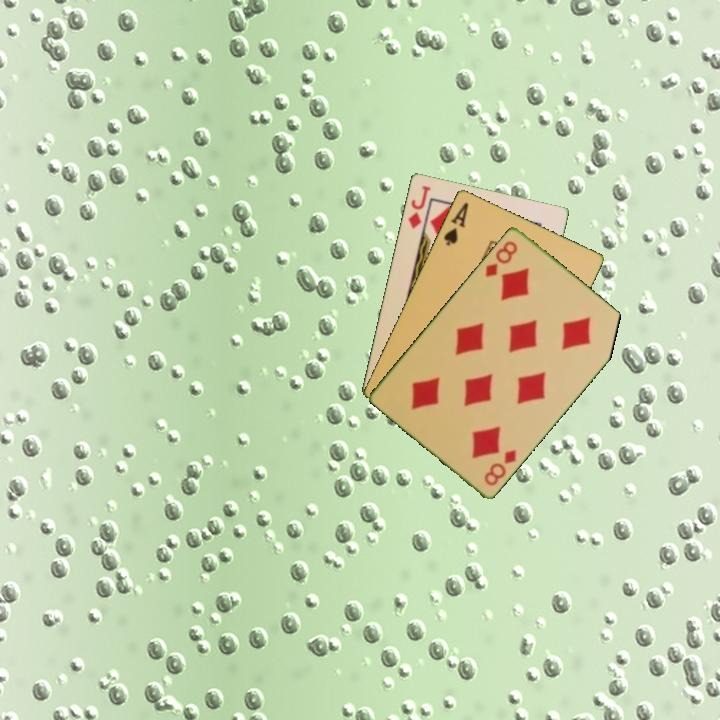8d: (482, 237, 520, 280), (481, 445, 519, 488)
As: (440, 198, 471, 248)
Jd: (404, 182, 433, 231)
